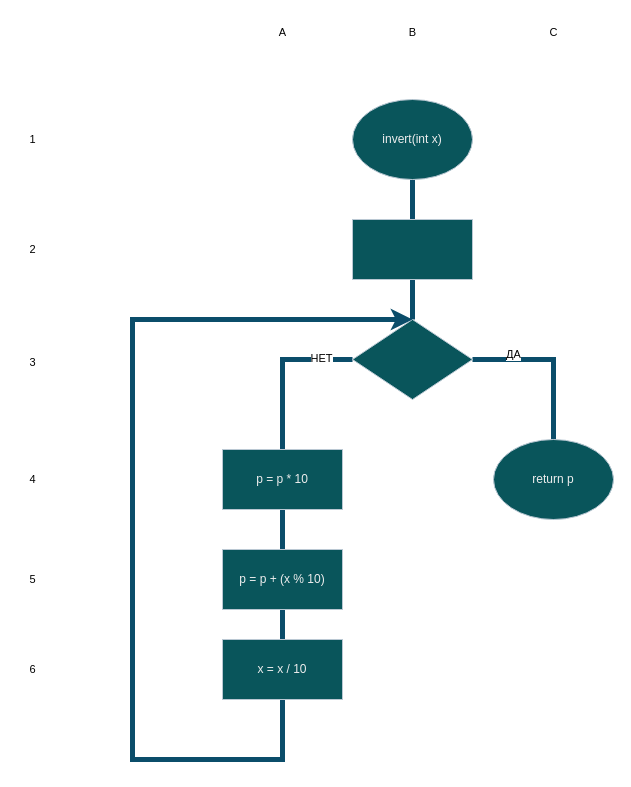
Image size: 631x787. Some labels were removed from this diagram. The shapes that lost their labels are listed below. From the top down, each one's box as (x1, y1, x2, y2) in pixels, then its label:
(352, 218, 472, 280): p = 0
(352, 318, 472, 400): x == 0
